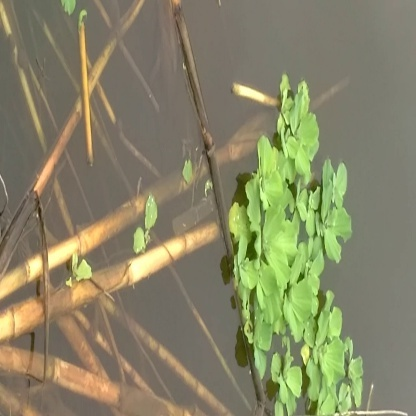branch: (1, 172, 216, 344)
